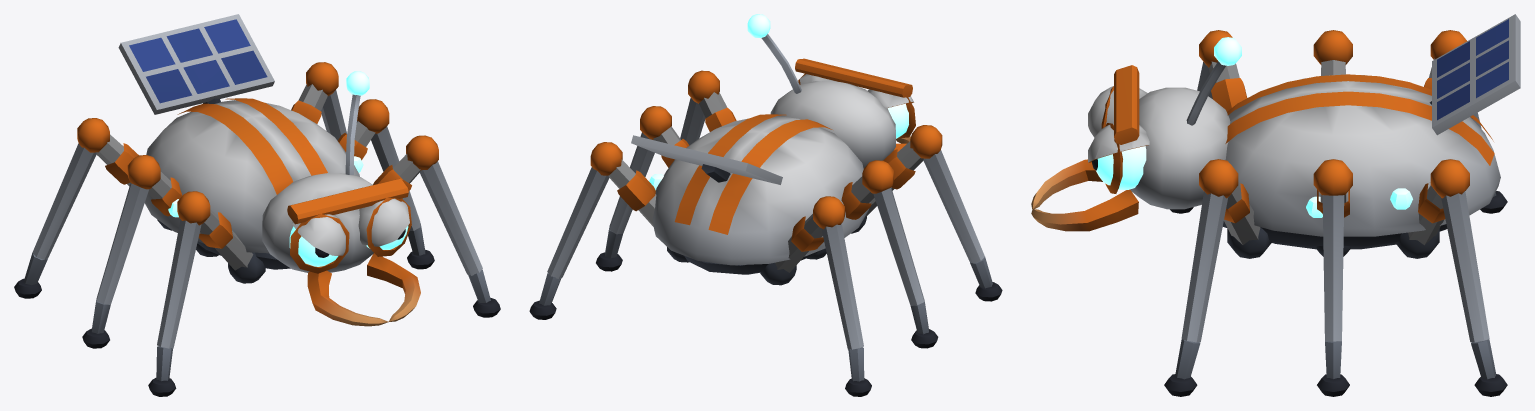
The model's file is bug_space.glb.
3 renders of one model, left to right at view 1: azimuth 30°, elevation 25°; view 2: azimuth 150°, elevation 25°; view 3: azimuth 270°, elevation 25°, orthographic. The views are drawn at different scales.
Parts seen in each view (by area): view 1: body, leg_R1, leg_R3, leg_R2, leg_L1, leg_L2, eye_R, eye_L, leg_L3; view 2: body, leg_R3, leg_L3, leg_R1, leg_R2, leg_L2, leg_L1, eye_R; view 3: body, leg_L1, leg_L3, leg_L2, eye_L, leg_R1, leg_R2, leg_R3, eye_R.
Part boxes in pixels (box(x1,y1,x2,y2)): body: box(118, 14, 420, 326); leg_R1: box(148, 191, 265, 396); leg_R3: box(14, 118, 172, 298); leg_R2: box(82, 155, 218, 348); leg_L1: box(373, 135, 500, 317); leg_L2: box(338, 99, 434, 269); eye_R: box(289, 214, 349, 273); eye_L: box(358, 197, 411, 256); leg_L3: box(291, 62, 346, 140); body: box(631, 14, 912, 274); leg_R3: box(760, 196, 871, 396); leg_L3: box(529, 142, 689, 319); leg_R1: box(851, 125, 1002, 301); leg_R2: box(807, 160, 938, 348); leg_L2: box(596, 106, 689, 271); leg_L1: box(680, 70, 736, 145); eye_R: box(867, 89, 915, 138); body: box(1031, 14, 1520, 249); leg_L1: box(1164, 159, 1271, 396); leg_L3: box(1395, 159, 1507, 396); leg_L2: box(1313, 159, 1352, 396); eye_L: box(1088, 122, 1149, 193); leg_R1: box(1170, 30, 1247, 213); leg_R2: box(1313, 30, 1352, 75); leg_R3: box(1424, 30, 1507, 213); eye_R: box(1088, 86, 1147, 137).
Bounding box in the file's own units: 0.948 × 0.662 × 0.9937.
